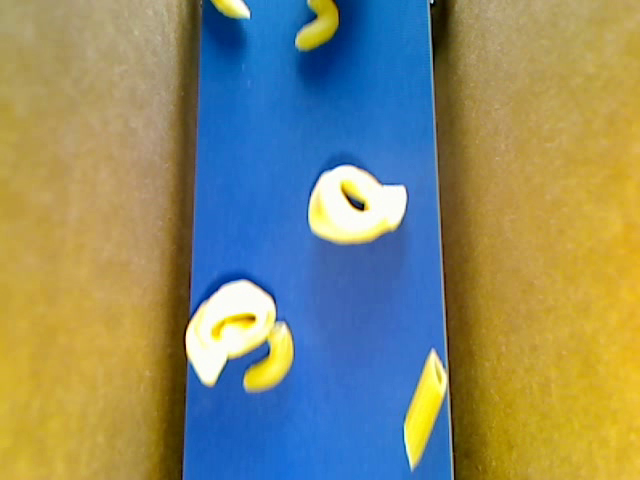elbow: (242, 321, 294, 393), (294, 1, 339, 54)
penne: (402, 347, 447, 473)
tortellini: (184, 280, 274, 386), (309, 165, 408, 244)
